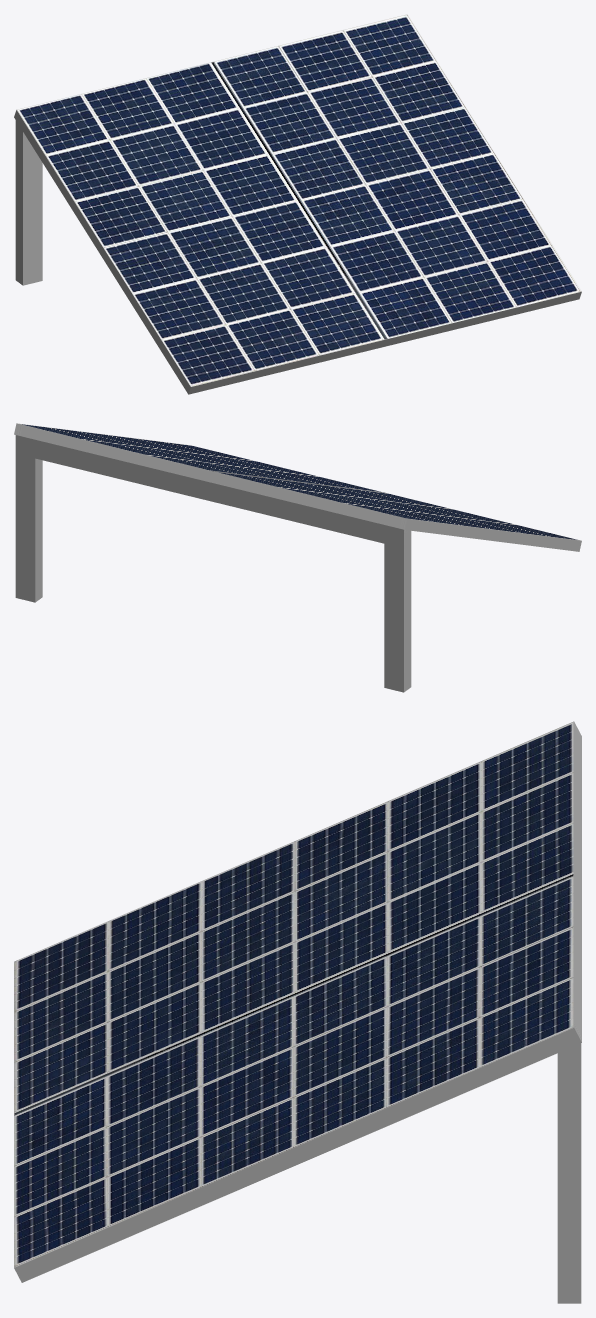
Rendered from Solar_Panel.fbx.
3 views of the same model, one above another, from view 1: azimuth 30°, elevation 25°; view 2: azimuth 150°, elevation 25°; view 3: azimuth 270°, elevation 25° (orthographic). The views are drawn at different scales.
Parts seen in each view (by area): view 1: Solar_Panel; view 2: Solar_Panel; view 3: Solar_Panel.
Boxes of the visible parts, left/top/right/bottom form: Solar_Panel: left=14, top=14, right=581, bottom=394; Solar_Panel: left=14, top=423, right=581, bottom=692; Solar_Panel: left=14, top=721, right=581, bottom=1303.
Bounding box in the file's own units: 108 × 45.64 × 84.79.
